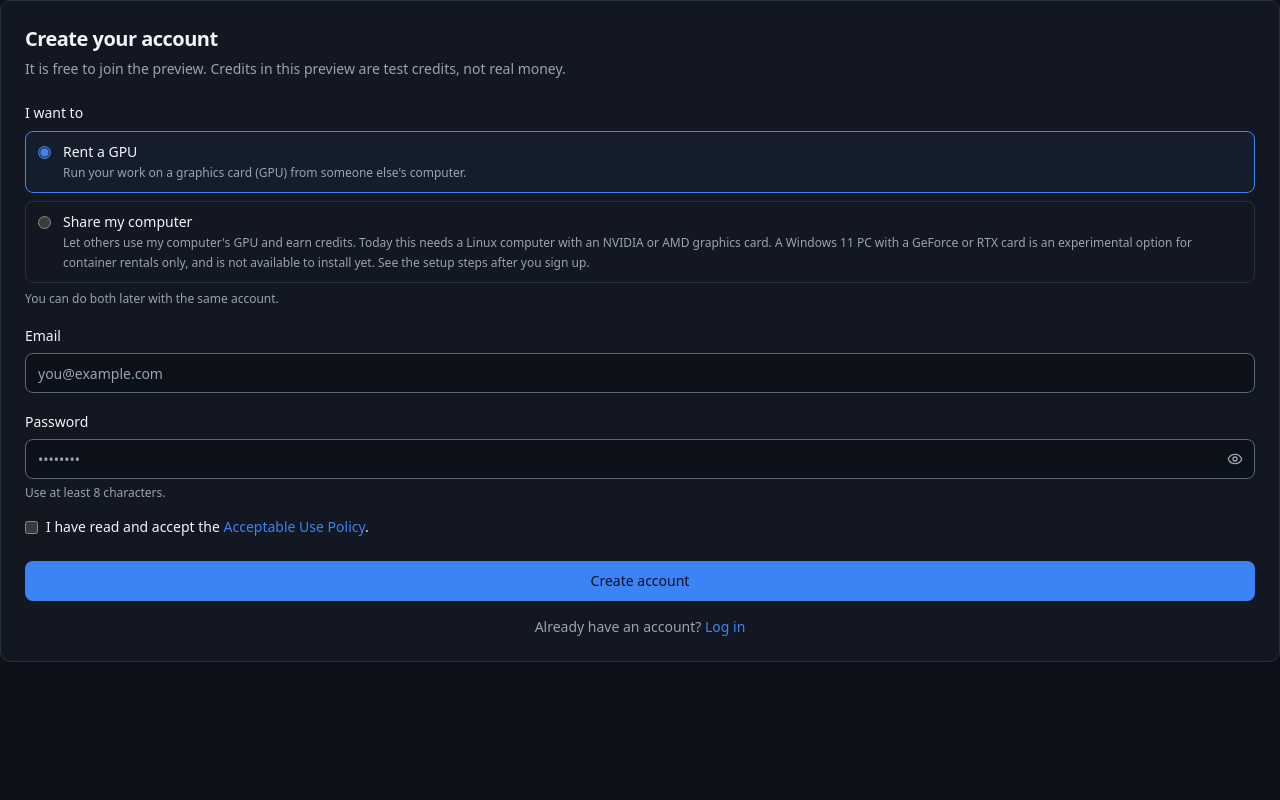
AuthForm: the 8-character rule is for choosing a password, not for logging in › still refuses a short password when creating an account
Type "new@example.com" into the field labelled "Email" at (640, 373), box [25,353,1255,393]
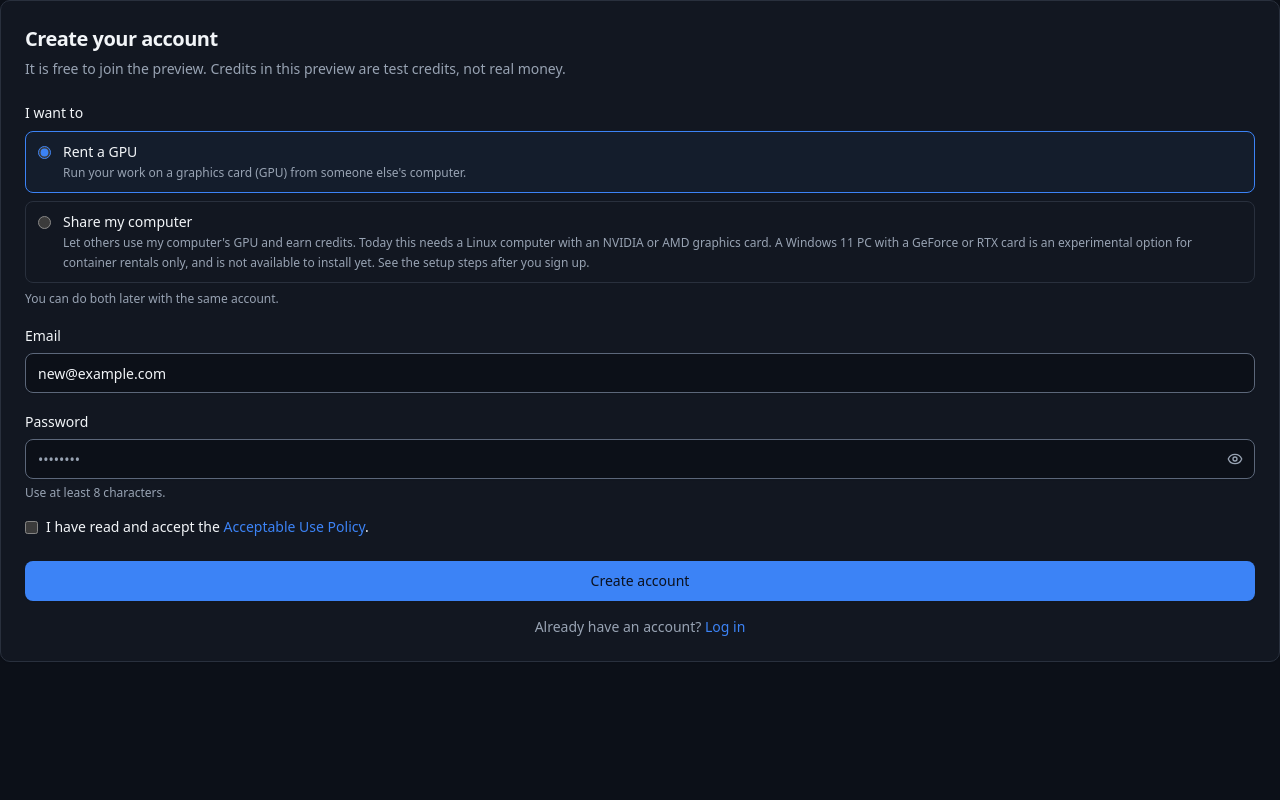
Type "short1" into the password field labelled "Password" at (640, 459), box [25,439,1255,479]
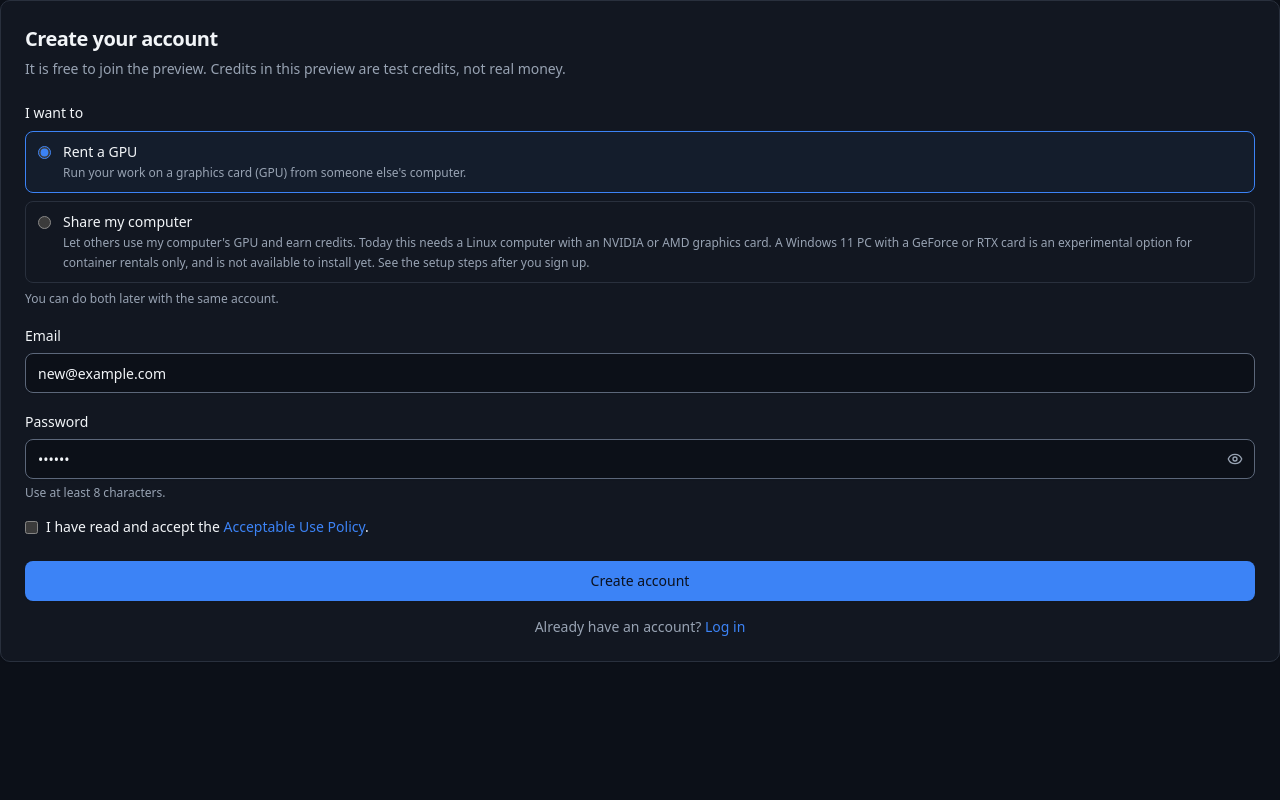
Click the checkbox labelled "I have read and accept the Acceptable Use Policy ." at (32, 528), box [25,521,38,534]
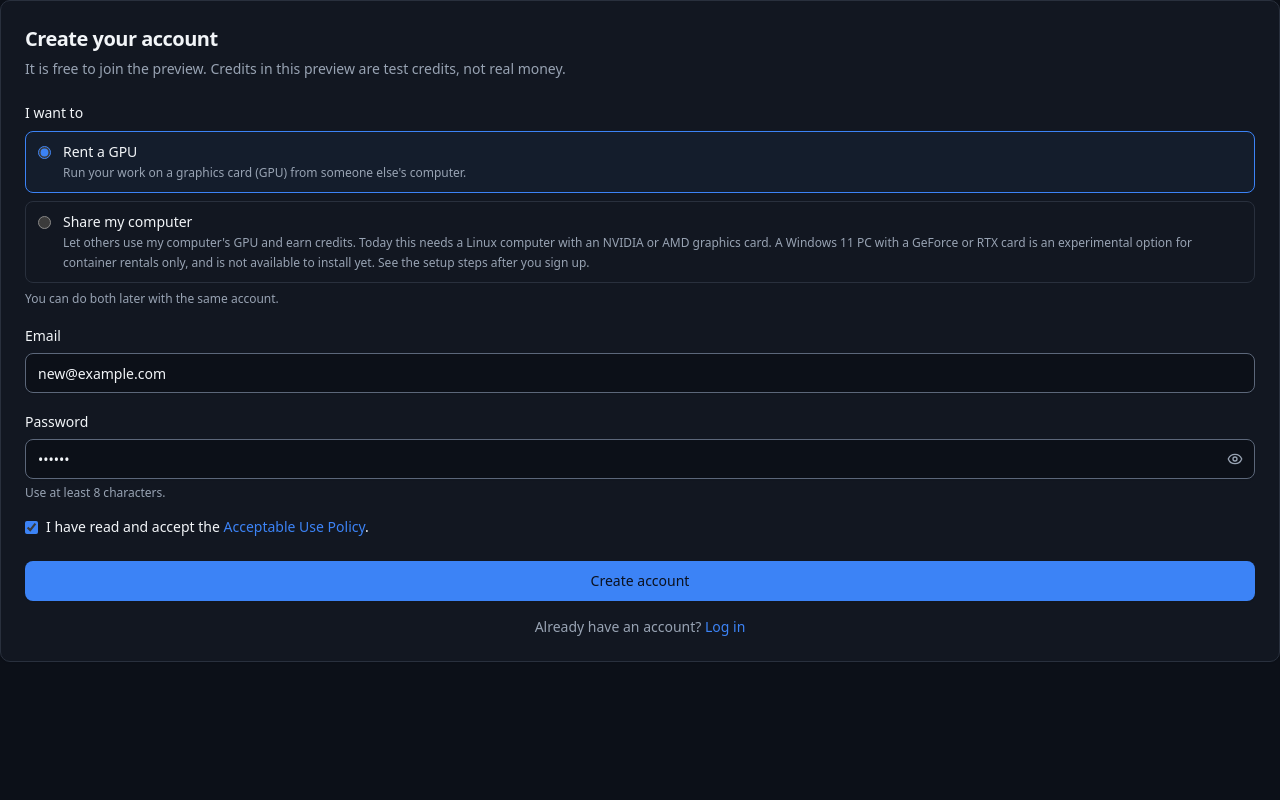
Click the button "Create account" at (640, 581), box [25,561,1255,601]
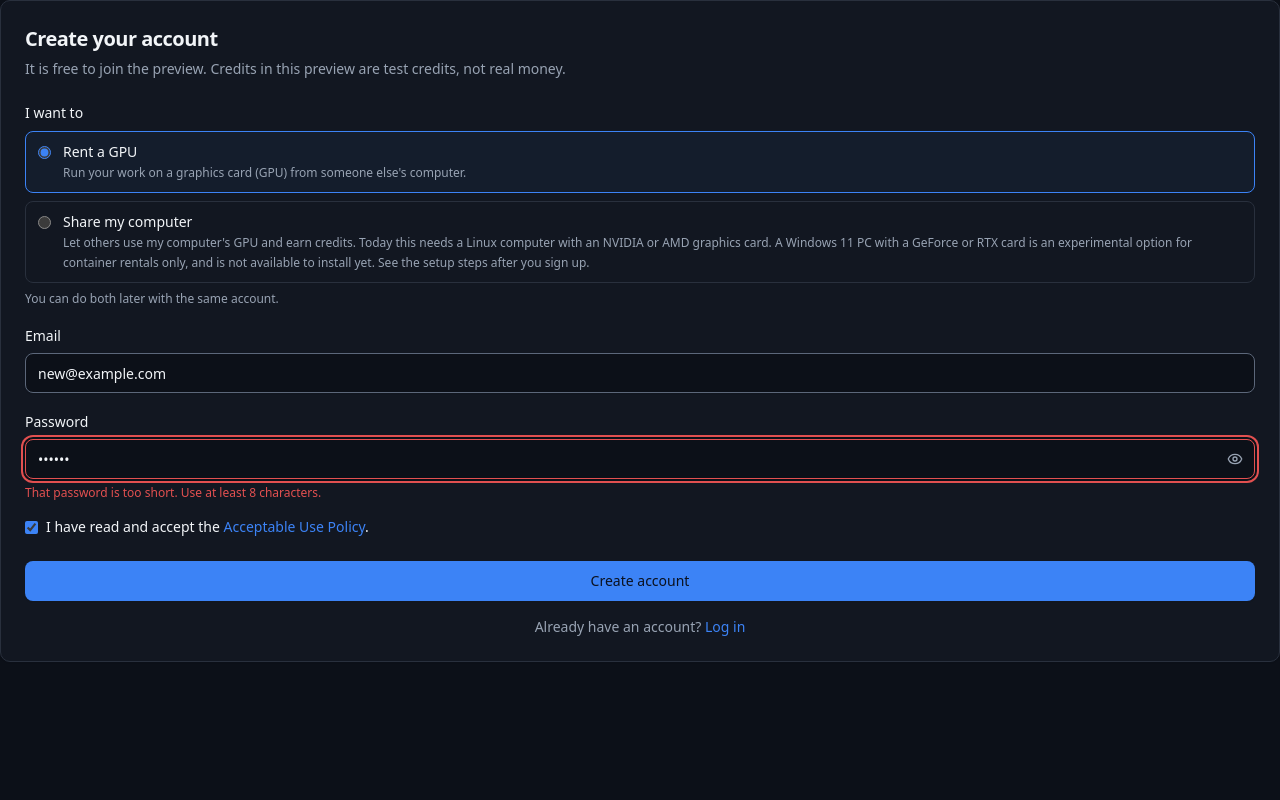
Check: the text "That password is too short. Use at least 8 characters." is shown, box [25,484,321,501]
